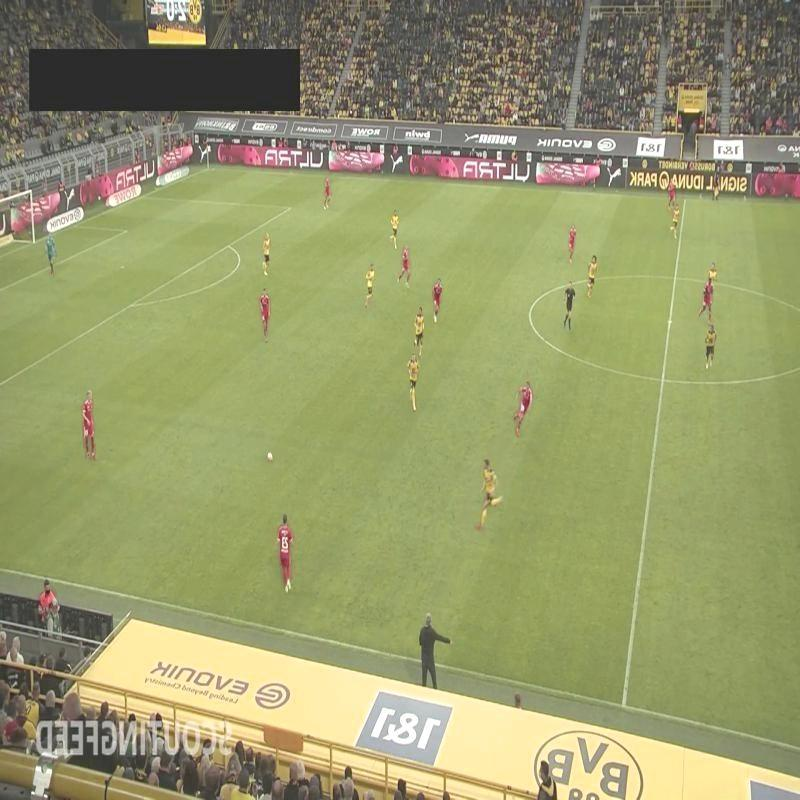1: (202, 162, 216, 176)
10: (222, 237, 236, 250)
11: (126, 296, 140, 310)
13: (678, 191, 692, 205)
14: (668, 270, 682, 284)
15: (654, 371, 671, 388)
16: (609, 692, 638, 720)
2: (135, 190, 149, 204)
3: (68, 218, 82, 232)
7: (118, 223, 132, 237)
9: (284, 201, 298, 215)
c: (524, 304, 538, 318)
